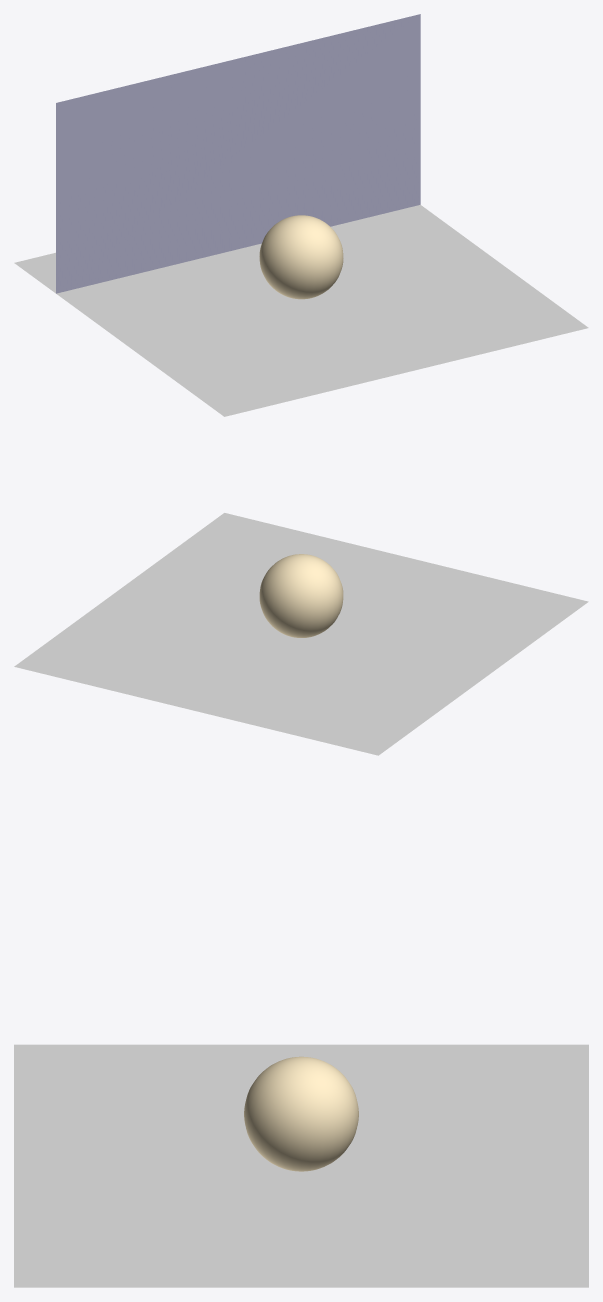
Rendered from metal_sphere.glb.
3 renders of one model, top to bottom at view 1: azimuth 30°, elevation 25°; view 2: azimuth 150°, elevation 25°; view 3: azimuth 270°, elevation 25°, orthographic. The views are drawn at different scales.
Visible parts, largest first — view 1: BackWall, Floor, MirrorSphere; view 2: Floor, MirrorSphere; view 3: Floor, MirrorSphere.
Part boxes in pixels (left/top/right/bottom): BackWall: left=56, top=14, right=420, bottom=293; Floor: left=14, top=205, right=588, bottom=416; MirrorSphere: left=259, top=215, right=343, bottom=299; Floor: left=14, top=513, right=588, bottom=755; MirrorSphere: left=259, top=554, right=343, bottom=637; Floor: left=14, top=1044, right=588, bottom=1287; MirrorSphere: left=244, top=1056, right=358, bottom=1171.
Bounding box in the file's own units: 10 × 5 × 10.
